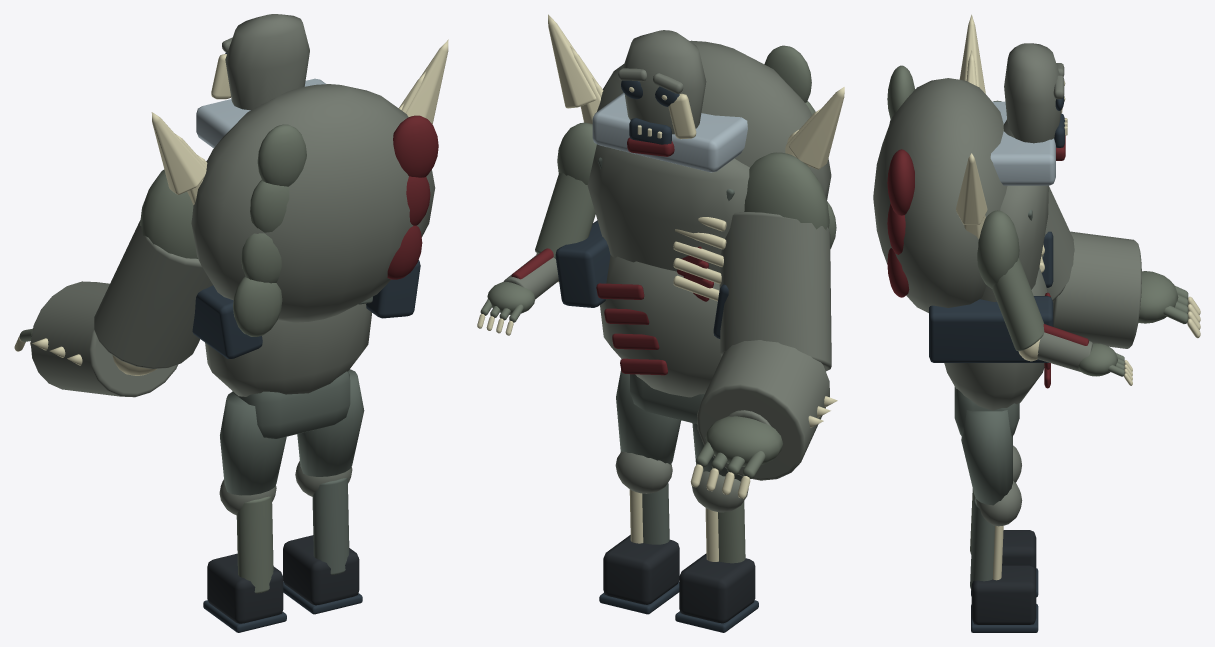
File: 13_zombie_titan.glb
3 renders of one model, left to right at view 1: azimuth 30°, elevation 25°; view 2: azimuth 150°, elevation 25°; view 3: azimuth 270°, elevation 25°, orthographic. The views are drawn at different scales.
Visible parts, largest first — view 1: Ribcage, Hypertrophic bicep, Forearm, Necrotic growth, Exposed cheekbone, Thigh, Sunken mouth, Torn jaw, Torn trousers, Combat boot, Combat boot.001, Thigh.001 (+8 smaller); view 2: Ribcage, Hypertrophic bicep, Forearm, Exposed cheekbone, Sunken mouth, Containment collar, Deltoid.001, Deltoid, Combat boot.001, Combat boot, Torn jaw, Hand (+14 smaller); view 3: Ribcage, Forearm, Sunken mouth, Deltoid.001, Thigh.001, Combat boot.001, Torn jaw, Containment collar, Exposed cheekbone, Hand, Hypertrophic bicep, Tibia.001 (+8 smaller).
Boxes of the visible parts, <box> form: Ribcage: <box>191,14,435,396</box>; Hypertrophic bicep: <box>94,220,212,368</box>; Forearm: <box>30,281,177,397</box>; Necrotic growth: <box>233,124,306,336</box>; Exposed cheekbone: <box>151,39,448,204</box>; Thigh: <box>220,391,286,495</box>; Sunken mouth: <box>192,52,420,358</box>; Torn jaw: <box>387,115,438,279</box>; Torn trousers: <box>234,371,350,438</box>; Combat boot: <box>207,553,283,623</box>; Combat boot.001: <box>283,535,359,605</box>; Thigh.001: <box>297,369,364,476</box>; Ribcage: <box>587,30,831,397</box>; Hypertrophic bicep: <box>719,212,831,371</box>; Forearm: <box>697,340,829,480</box>; Exposed cheekbone: <box>548,14,844,301</box>; Sunken mouth: <box>555,80,728,338</box>; Containment collar: <box>592,92,747,172</box>; Deltoid.001: <box>535,122,596,258</box>; Deltoid: <box>744,152,829,230</box>; Combat boot.001: <box>603,535,679,604</box>; Combat boot: <box>679,553,755,623</box>; Torn jaw: <box>596,137,713,375</box>; Hand: <box>696,416,782,478</box>; Ribcage: <box>873,43,1064,410</box>; Forearm: <box>1052,231,1141,348</box>; Sunken mouth: <box>929,96,1064,362</box>; Deltoid.001: <box>977,210,1044,351</box>; Thigh.001: <box>961,410,1012,505</box>; Combat boot.001: <box>971,565,1036,624</box>; Torn jaw: <box>887,135,1065,388</box>; Containment collar: <box>990,101,1055,185</box>; Exposed cheekbone: <box>956,14,1067,272</box>; Hand: <box>1138,271,1188,323</box>; Hypertrophic bicep: <box>1041,186,1074,300</box>; Tibia.001: <box>970,498,994,590</box>.
Size of the model in its own units: 1.48 by 2.37 by 1.26.
